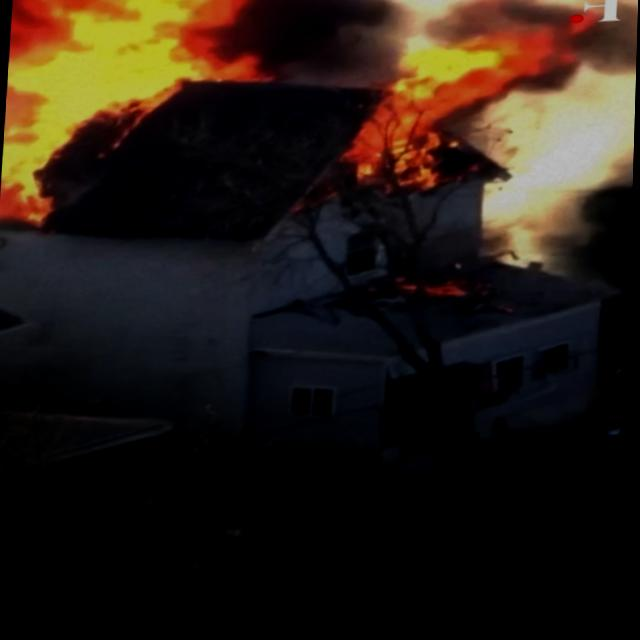helmet: (0, 0, 258, 244), (338, 0, 566, 204)
no_helmet: (180, 0, 412, 108)
